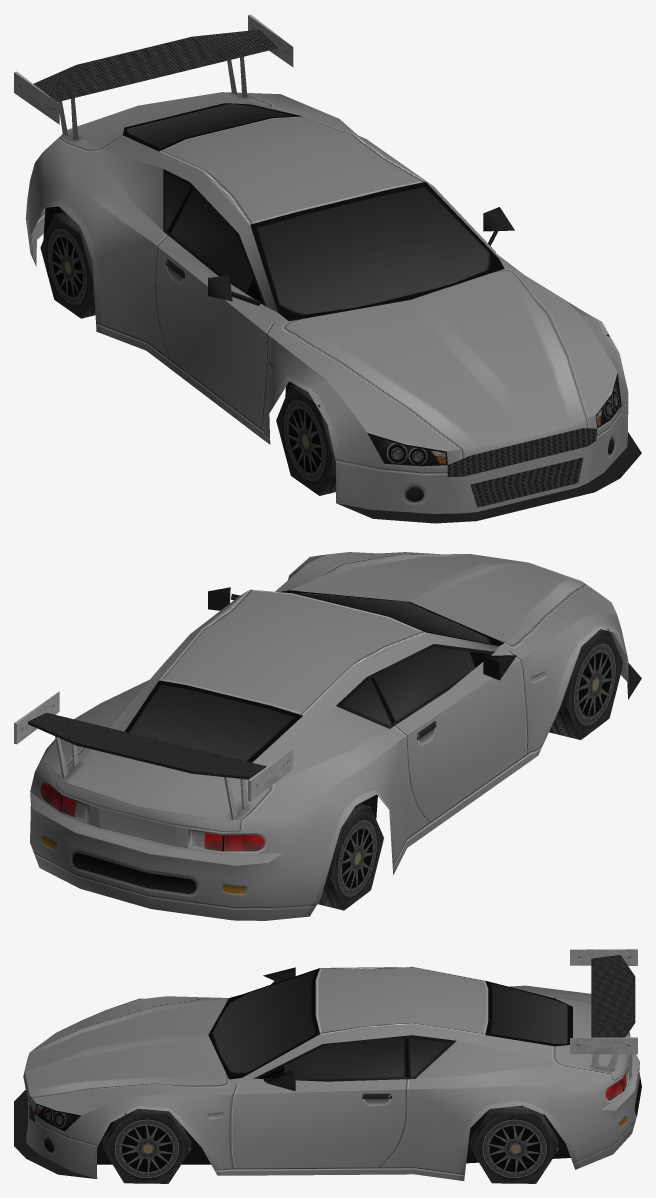
The model's file is Modern_HighPowered_Car_LOD2.fbx.
The picture shows the model from 3 angles, top to bottom: view 1: azimuth 30°, elevation 25°; view 2: azimuth 150°, elevation 25°; view 3: azimuth 270°, elevation 25°; orthographic projection. The views are drawn at different scales.
Parts seen in each view (by area): view 1: Chassis, RF_Wheel, RR_Wheel; view 2: Chassis, RF_Wheel, RR_Wheel; view 3: Chassis, LR_Wheel, LF_Wheel.
Part boxes in pixels (x1,y1,x2,y2): Chassis: (14,14,641,523); RF_Wheel: (276,384,335,495); RR_Wheel: (40,212,95,318); Chassis: (14,552,641,920); RF_Wheel: (549,628,623,739); RR_Wheel: (317,803,383,910); Chassis: (14,949,641,1180); LR_Wheel: (470,1105,558,1183); LF_Wheel: (102,1108,191,1183).
Bounding box in the file's own units: 2.39 × 1.37 × 5.65.
2 materials, 2 textured.
